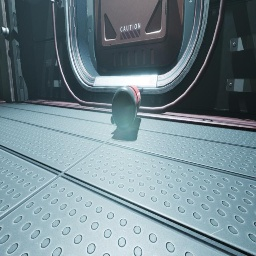FireExtinguisher ]: (110, 85, 144, 131)
SafetySwitchPanel ,: (23, 0, 45, 5)
